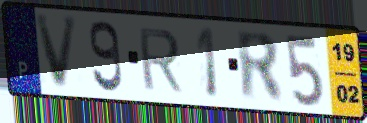1: (194, 24, 219, 101)
5: (283, 31, 327, 108)
9: (88, 19, 124, 93)
R: (234, 28, 287, 105), (136, 26, 185, 94)
V: (33, 14, 81, 92)
